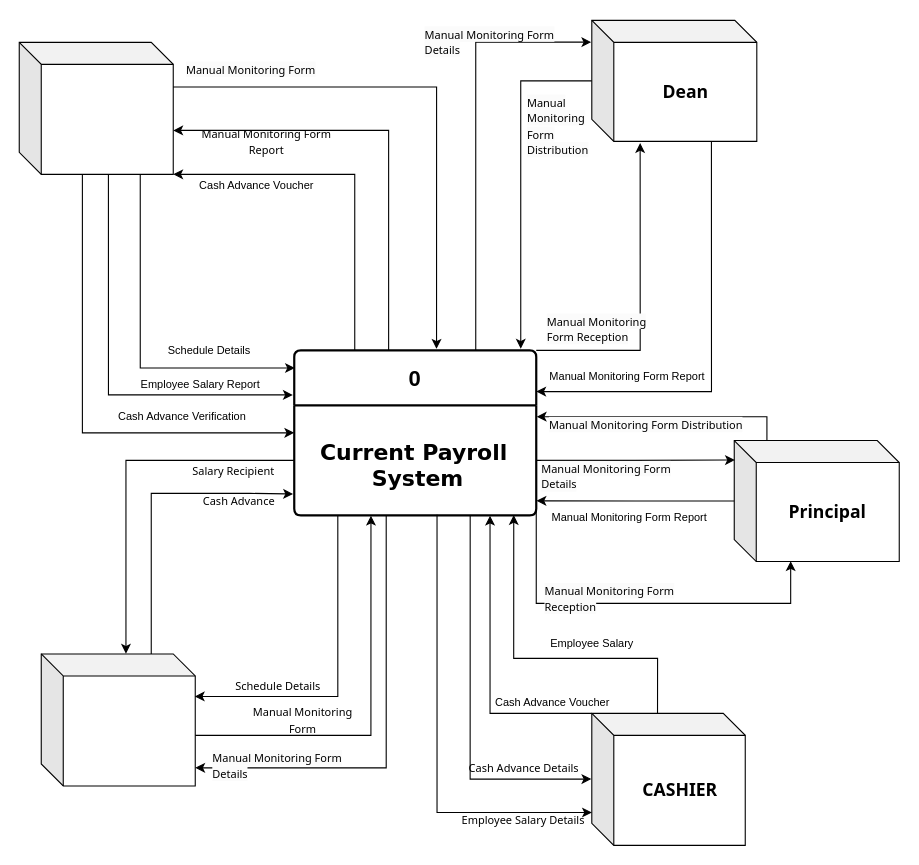
Some shapes in this 919 by 865 pixel diagram are drawn without their labels. Each missing label, with the centre of its shape:
"EMPLOYEE" goes at (117,719).
"PRESIDENT" goes at (95,107).
